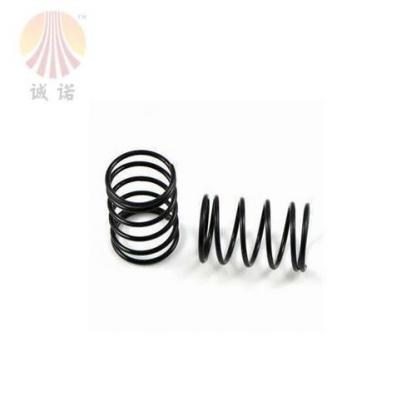FOD: (192, 192, 315, 272), (105, 148, 181, 266)
